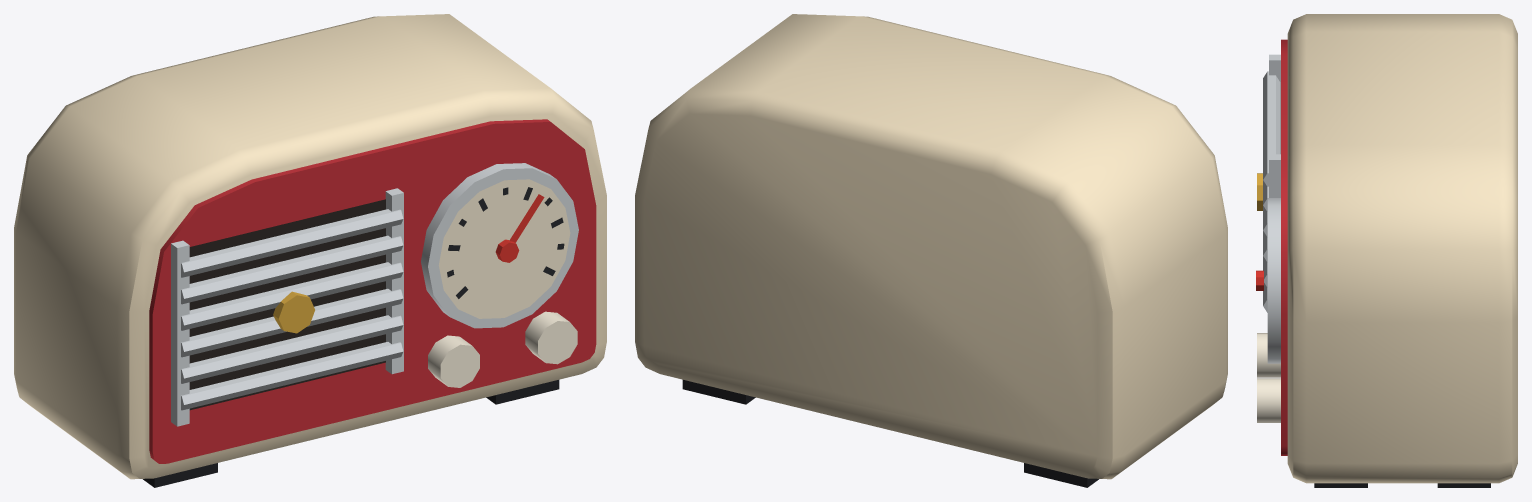
File: Shop_Radio.fbx
3 views of the same model, side by side, from view 1: azimuth 30°, elevation 25°; view 2: azimuth 150°, elevation 25°; view 3: azimuth 270°, elevation 25° (orthographic). The views are drawn at different scales.
Visible parts, largest first — view 1: Body, Plate, Grille, DialFace, Cloth, Bezel, Knobs, Feet, Badge, Needle, Ticks; view 2: Body, Feet; view 3: Body, Grille, Plate, Bezel, Knobs, Feet.
Boxes of the visible parts, x1,y1,x2,y2 form: Body: [14, 14, 606, 479]; Plate: [149, 119, 596, 463]; Grille: [171, 188, 403, 426]; DialFace: [438, 179, 570, 318]; Cloth: [189, 199, 385, 410]; Bezel: [421, 163, 578, 328]; Knobs: [428, 311, 577, 387]; Feet: [143, 380, 559, 487]; Badge: [273, 291, 314, 333]; Needle: [495, 194, 544, 262]; Ticks: [447, 187, 564, 298]; Body: [635, 14, 1227, 479]; Feet: [682, 380, 1098, 487]; Body: [1287, 14, 1517, 483]; Grille: [1263, 54, 1280, 312]; Plate: [1281, 39, 1287, 455]; Bezel: [1267, 198, 1280, 363]; Knobs: [1257, 333, 1280, 422]; Feet: [1314, 483, 1490, 487].
Bounding box in the file's own units: 200 × 126 × 97.8.
